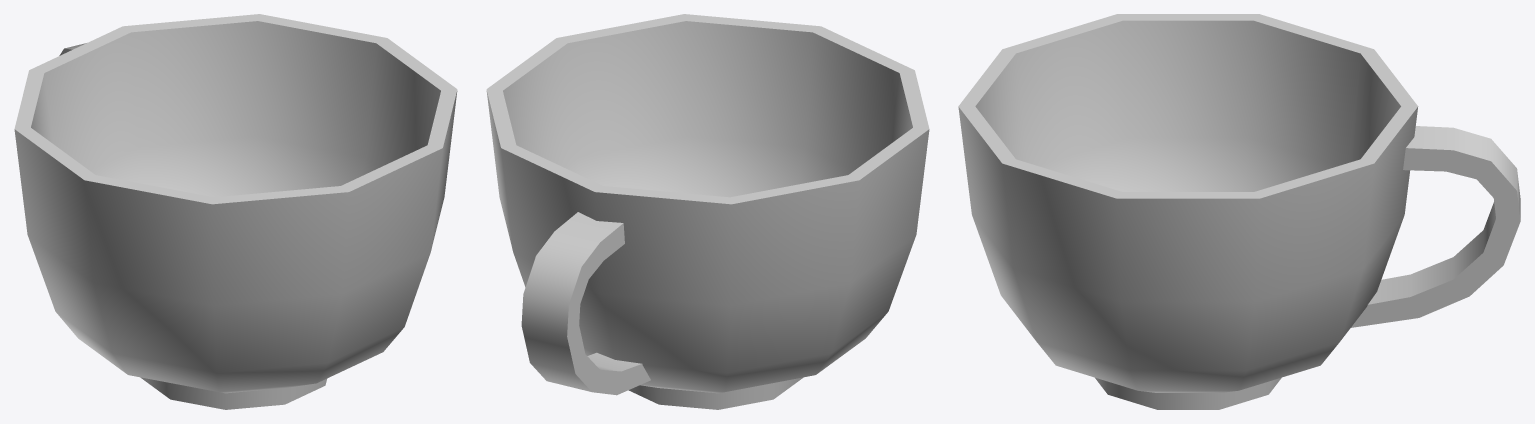
Rendered from TeaCup_01.fbx.
3 views of the same model, side by side, from view 1: azimuth 30°, elevation 25°; view 2: azimuth 150°, elevation 25°; view 3: azimuth 270°, elevation 25° (orthographic).
Parts seen in each view (by area): view 1: TeaCup_01; view 2: TeaCup_01; view 3: TeaCup_01.
Part boxes in pixels (bbox=[...]): TeaCup_01: bbox=[14, 14, 457, 409]; TeaCup_01: bbox=[486, 14, 929, 409]; TeaCup_01: bbox=[958, 14, 1520, 409].
Bounding box in the file's own units: 0.0869 × 0.0578 × 0.1118.
